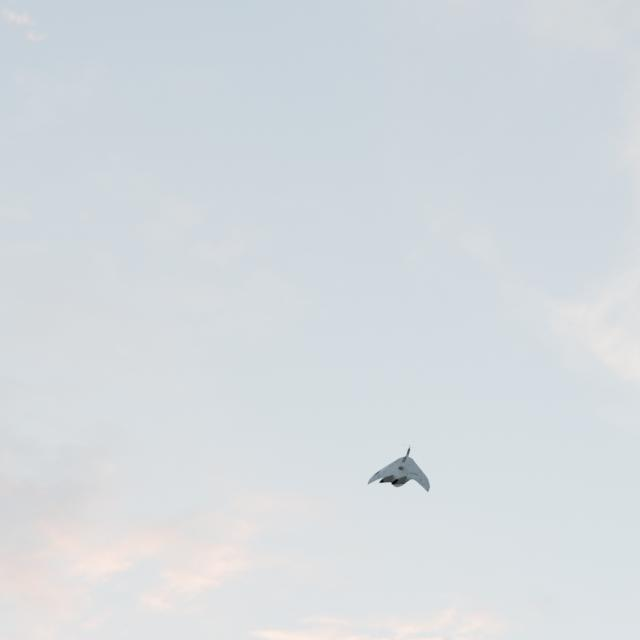Airaplan: (367, 444, 430, 492)
